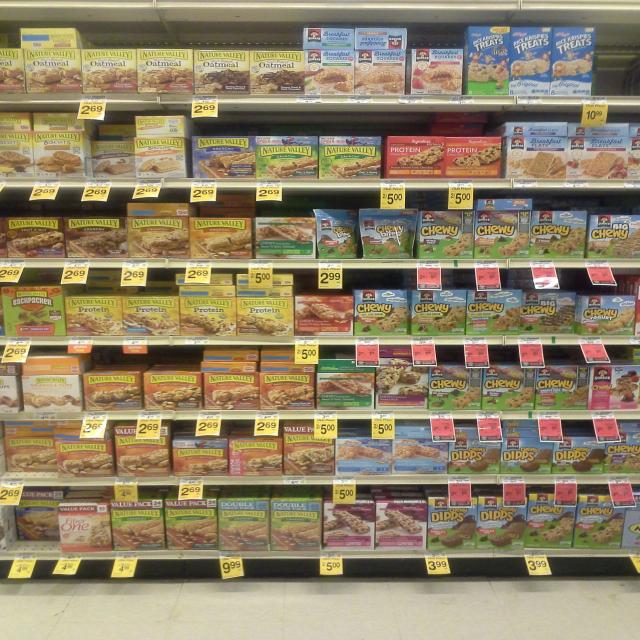unorganised: (4, 489, 61, 542), (312, 206, 360, 261), (92, 140, 135, 181), (204, 347, 259, 364)
